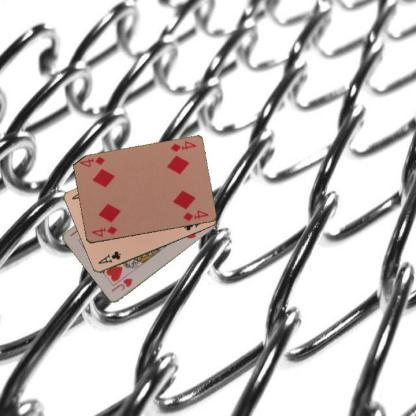4d: (168, 138, 197, 154), (89, 224, 118, 238)
Ac: (95, 249, 122, 266)
Jh: (108, 275, 134, 294)
